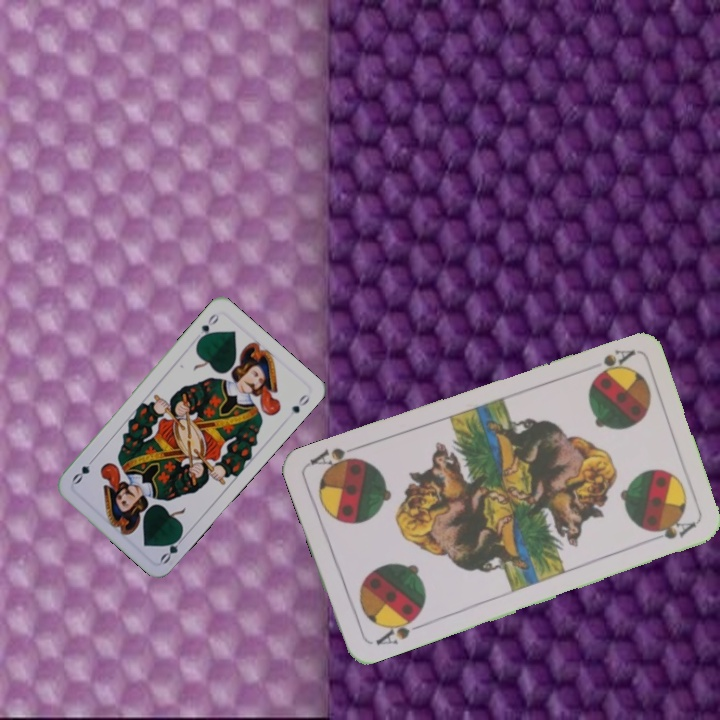GO: (156, 529, 188, 566), (194, 309, 221, 345)
SA: (372, 610, 425, 648), (590, 345, 637, 379)
